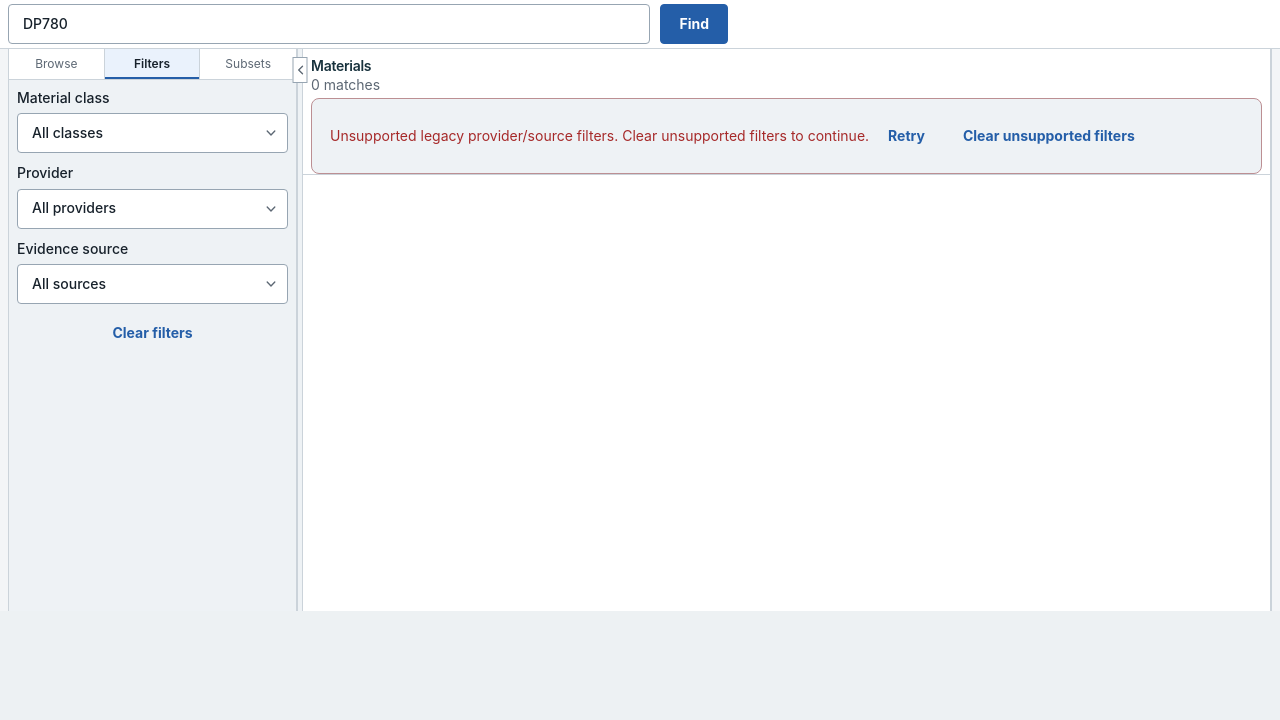
Test: MaterialSearchPage navigator and results › fails closed for source-v2 legacy filters and clears only those filters while preserving route state
Expected: the message shows "Unsupported legacy provider/source filters", [330,127,869,144]
Click the button "Clear unsupported filters": (1049, 136) [944,117,1154,155]
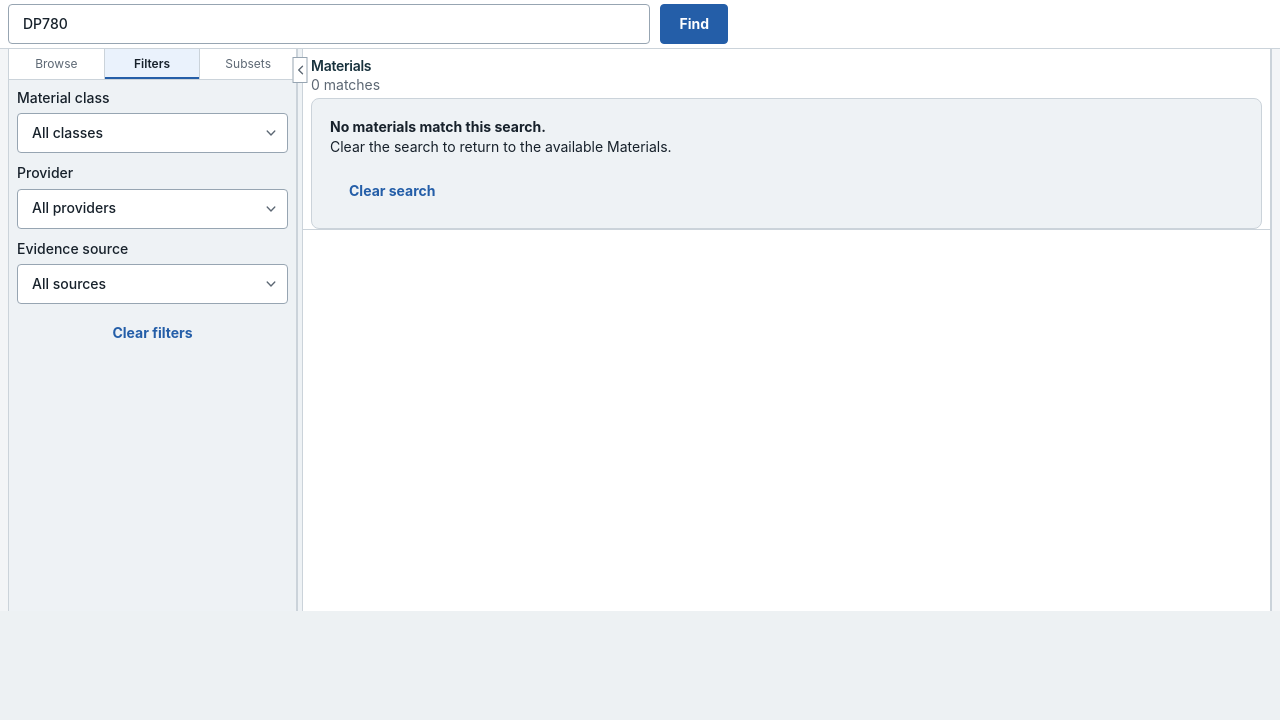
Now the message is gone
